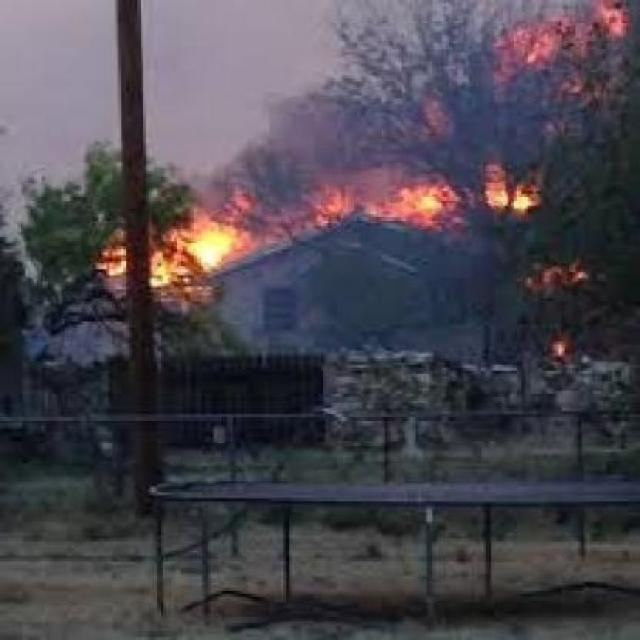Fire: (137, 126, 588, 274), (73, 162, 314, 330)
